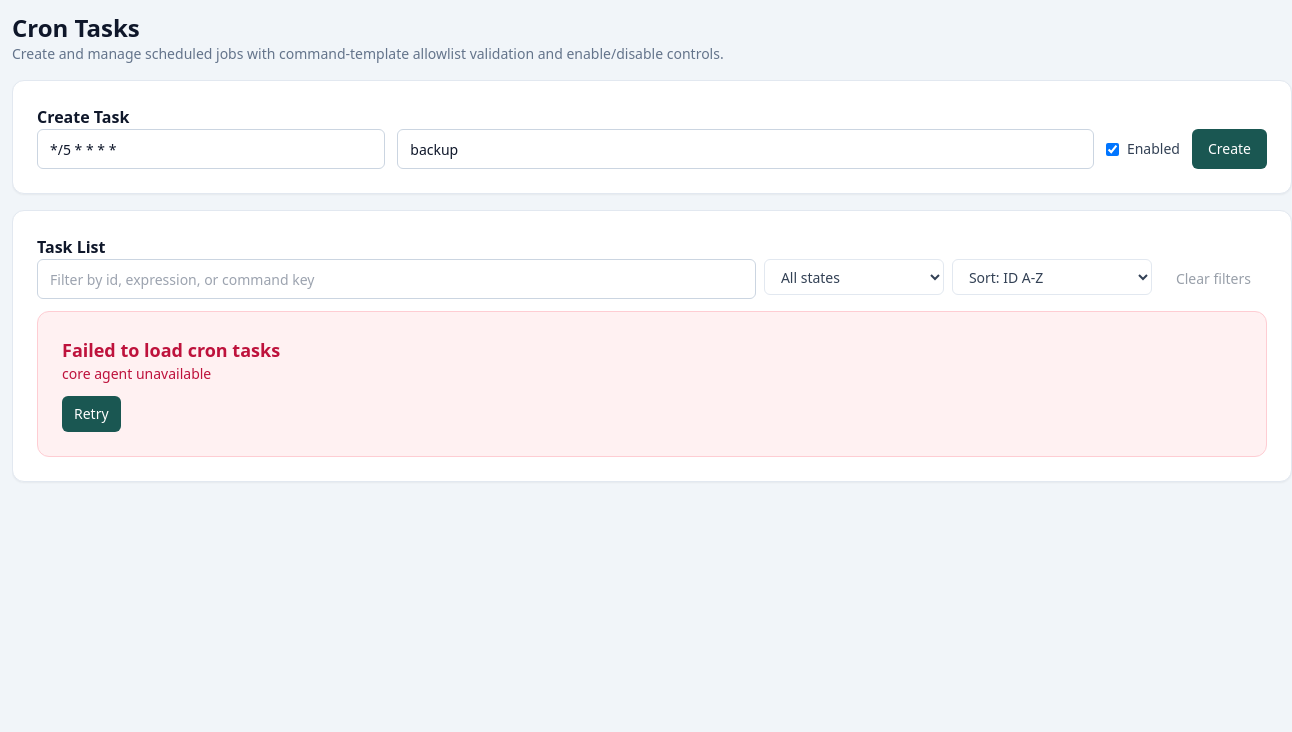
Test: CronPage › shows retryable error state when loading task list fails
Expected: the heading "Failed to load cron tasks" is shown, [62,338,280,362]
Expected: the text "core agent unavailable" is shown, [62,364,211,383]
Click the button "Retry" at (91, 414), box [62,396,121,432]
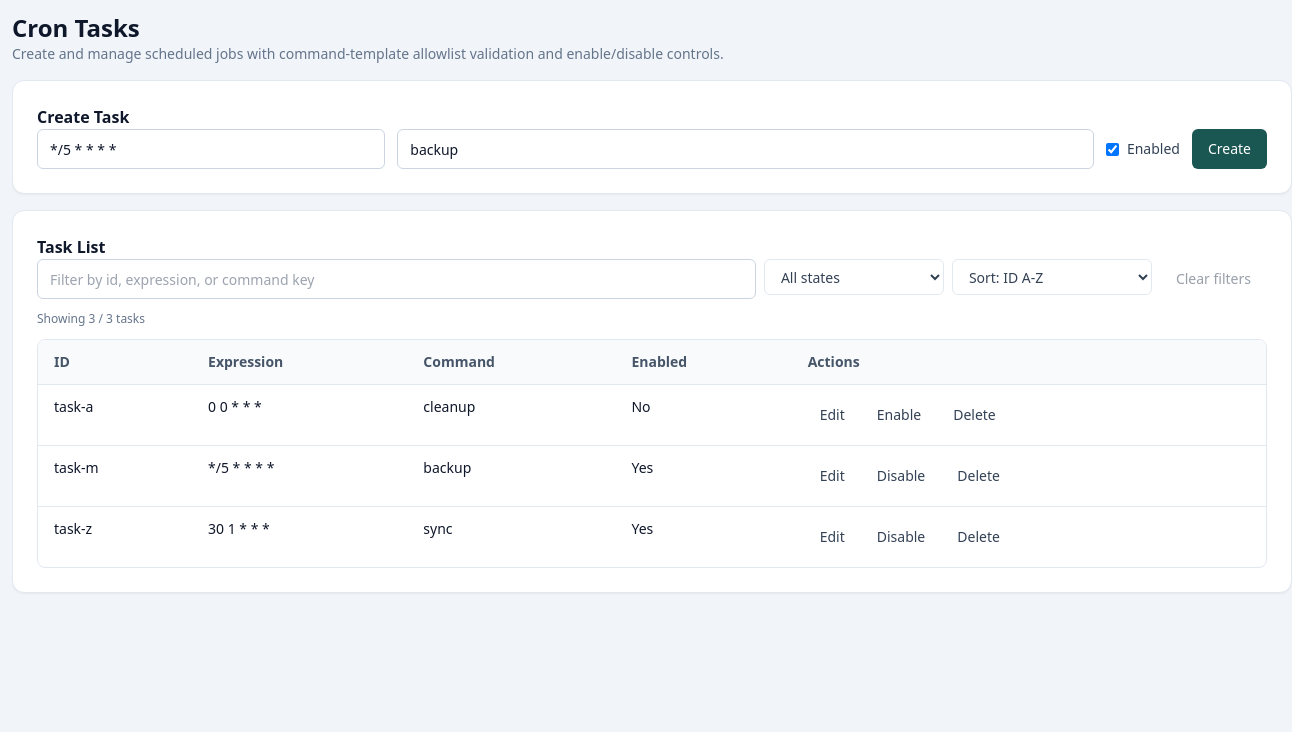
Result: the text "Showing 3 / 3 tasks" is shown at [37,310,145,327]
